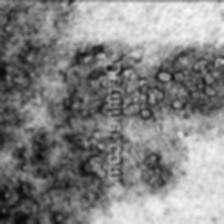Toxin: (80, 153, 110, 179), (156, 65, 180, 84)
